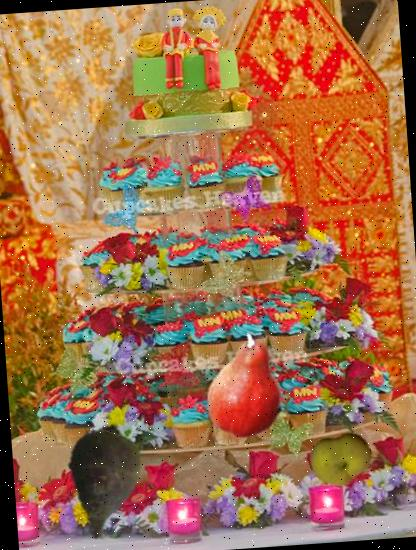Beetroot: (37, 409, 174, 545)
Peach: (307, 425, 375, 493)
Pear: (196, 335, 304, 443)
